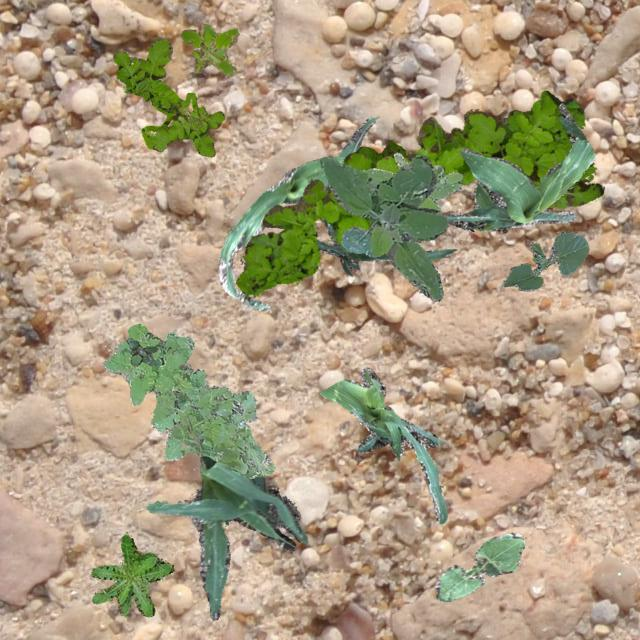crop: (146, 453, 306, 620), (315, 116, 455, 274), (318, 367, 446, 522), (217, 156, 343, 310), (443, 102, 593, 230), (434, 532, 524, 600), (500, 230, 588, 290)
weed: (235, 90, 602, 296), (102, 322, 274, 477), (319, 153, 446, 300), (112, 36, 224, 156), (90, 534, 172, 616), (362, 152, 462, 210), (355, 140, 405, 228), (180, 21, 238, 76), (126, 338, 156, 366), (190, 104, 210, 128)
